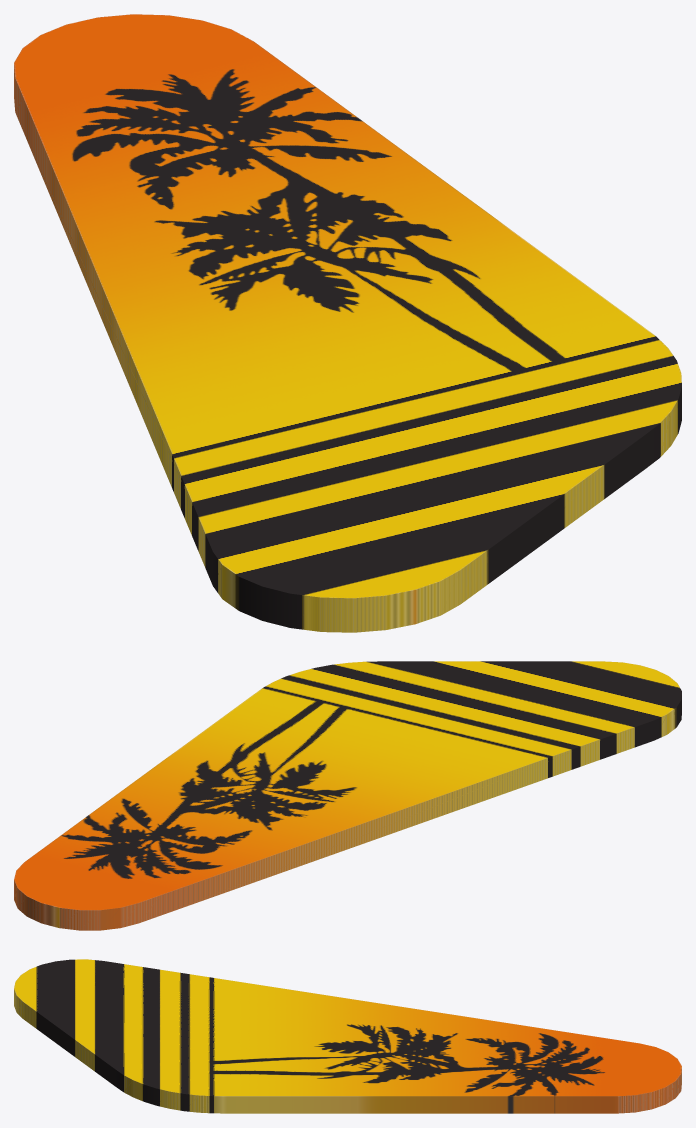
Rendered from V_slingshot_top_plate.fbx.
The picture shows the model from 3 angles, top to bottom: view 1: azimuth 30°, elevation 25°; view 2: azimuth 150°, elevation 25°; view 3: azimuth 270°, elevation 25°; orthographic projection. The views are drawn at different scales.
Visible parts, largest first — view 1: top_plate_1; view 2: top_plate_1; view 3: top_plate_1.
Part boxes in pixels (x1=…): top_plate_1: x1=14, y1=14, x2=681, y2=632; top_plate_1: x1=14, y1=661, x2=681, y2=930; top_plate_1: x1=14, y1=959, x2=681, y2=1113.
Size of the model in its own units: 0.852 by 0.05 by 1.76.
Materials: 1 (1 with a texture image).
